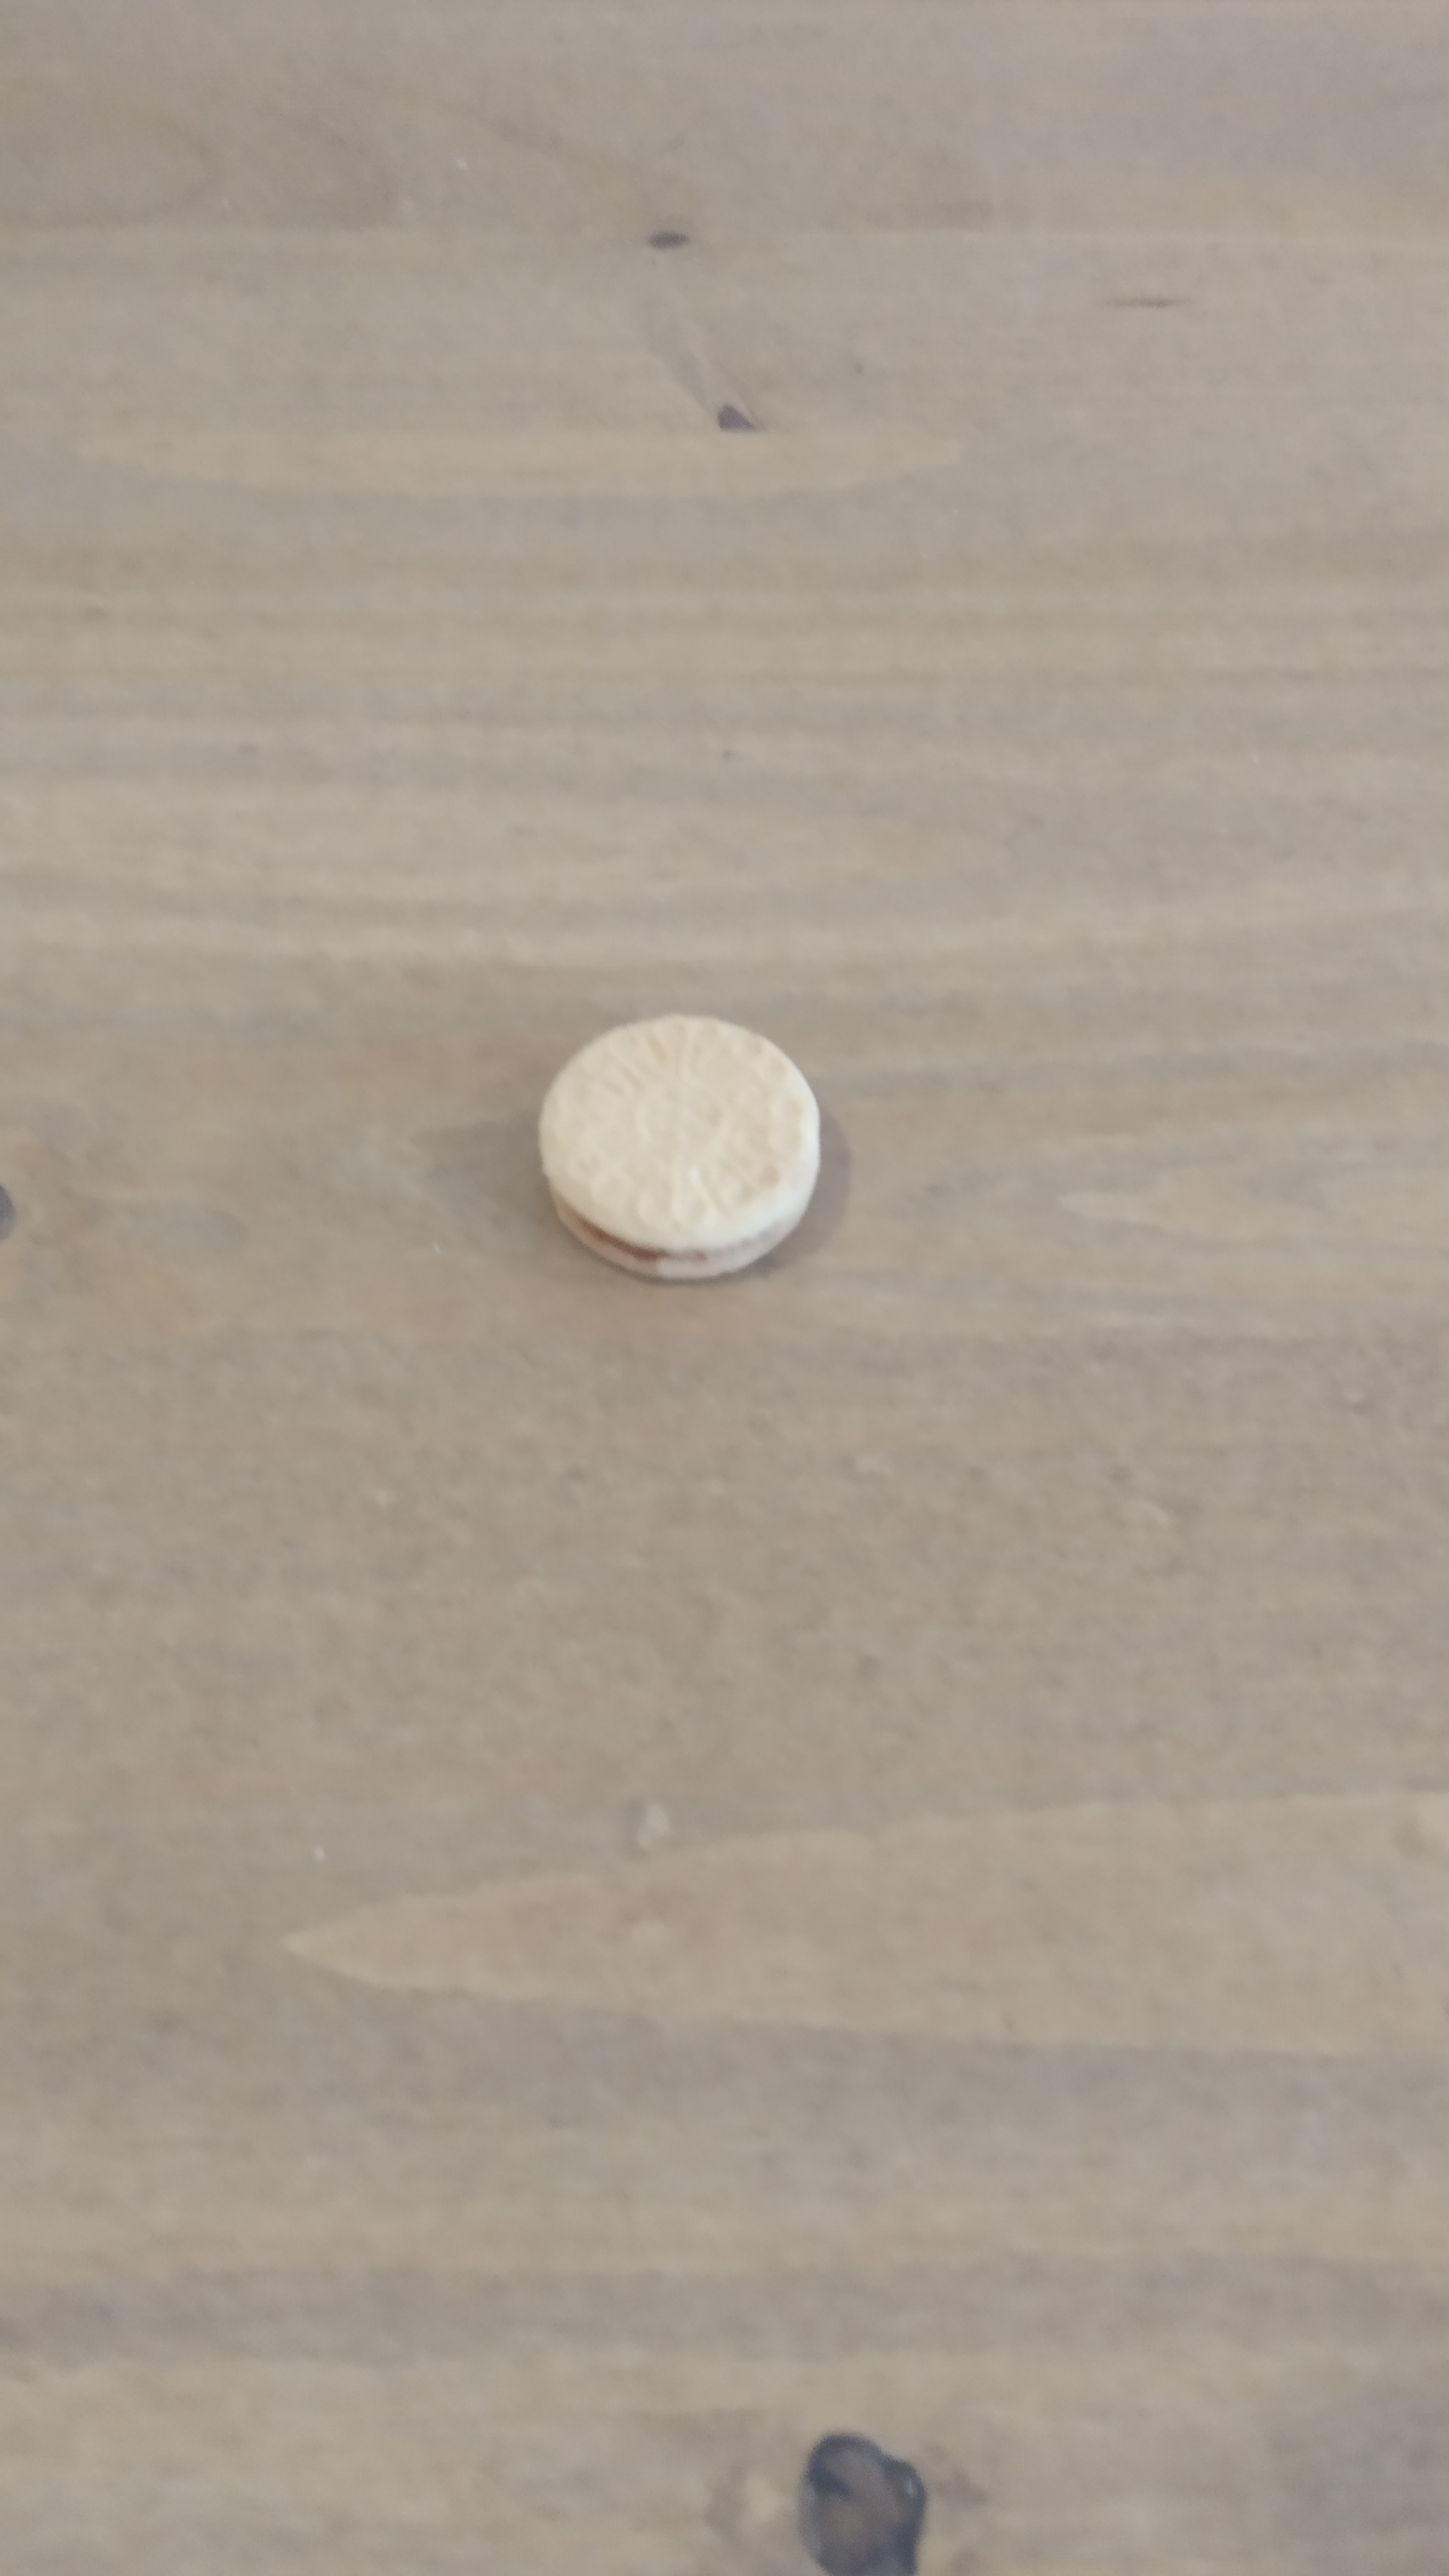lulu: (541, 1014, 826, 1274)
